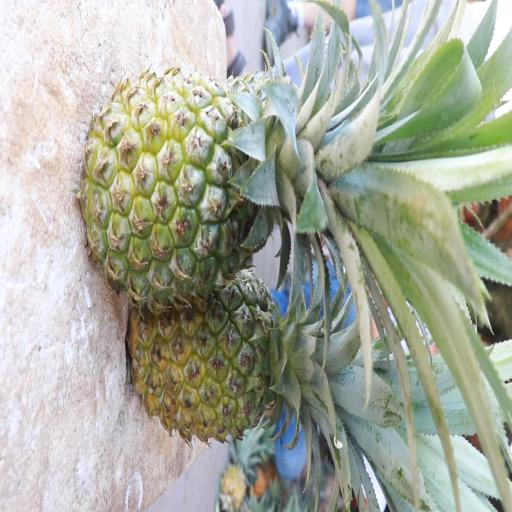------------------------------: (83, 56, 333, 301)
Pineapple - v8 v1: (130, 270, 328, 441)
